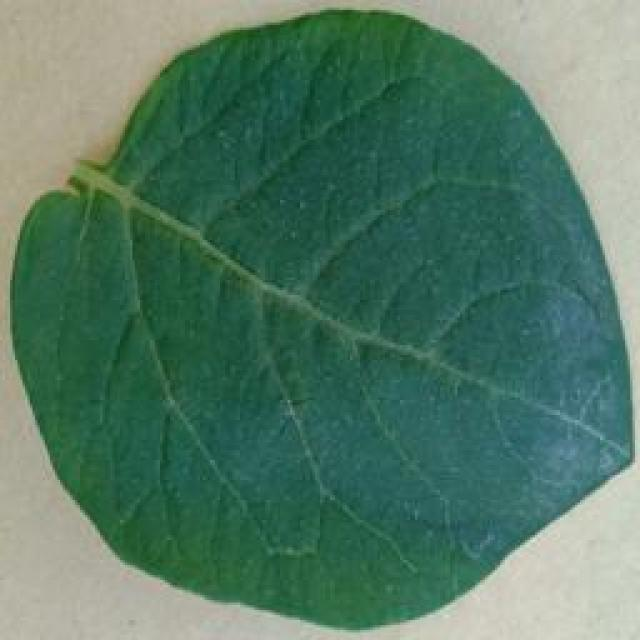Potato_Healthy: (8, 10, 622, 628)
